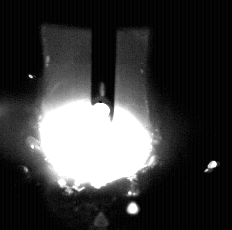arame: (92, 0, 116, 122)
poca: (40, 0, 152, 230)
